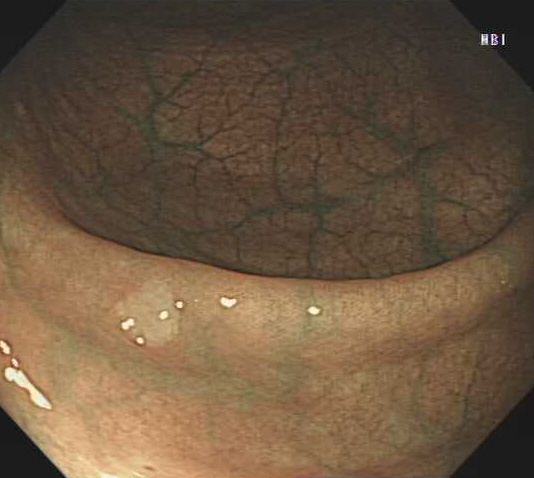others: (111, 276, 181, 350)
